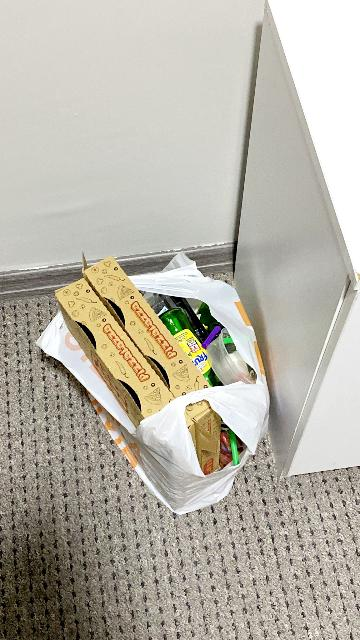Cam: (160, 304, 211, 378)
Kagit: (53, 255, 175, 427)
